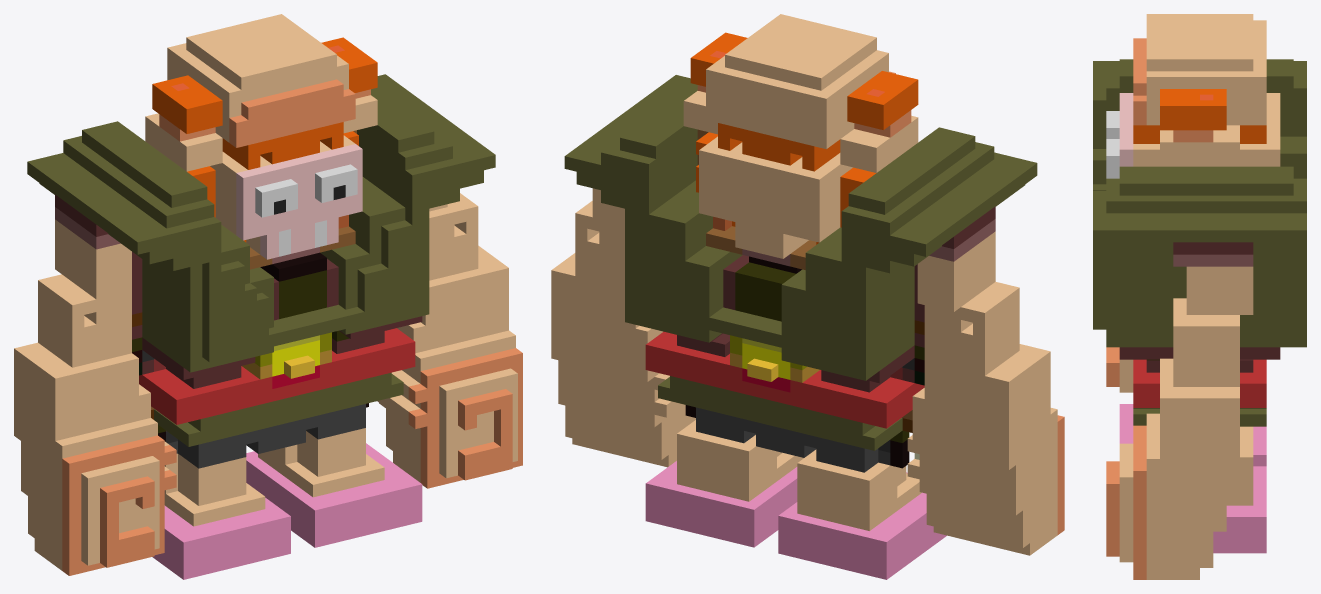
File: giant.fbx
3 views of the same model, side by side, from view 1: azimuth 30°, elevation 25°; view 2: azimuth 150°, elevation 25°; view 3: azimuth 270°, elevation 25° (orthographic). The views are drawn at different scales.
Parts seen in each view (by area): view 1: 对象; view 2: 对象; view 3: 对象.
Part boxes in pixels (left/top/right/bottom): 对象: left=14, top=14, right=522, bottom=579; 对象: left=551, top=14, right=1064, bottom=579; 对象: left=1093, top=14, right=1306, bottom=579.
Bounding box in the file's own units: 38 × 38 × 16.
Materials: 1 (1 with a texture image).
